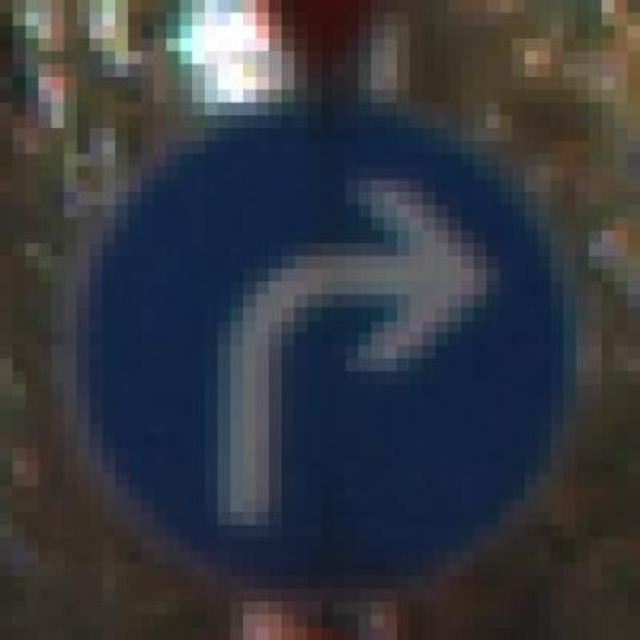Turn right ahead: (64, 51, 588, 589)
